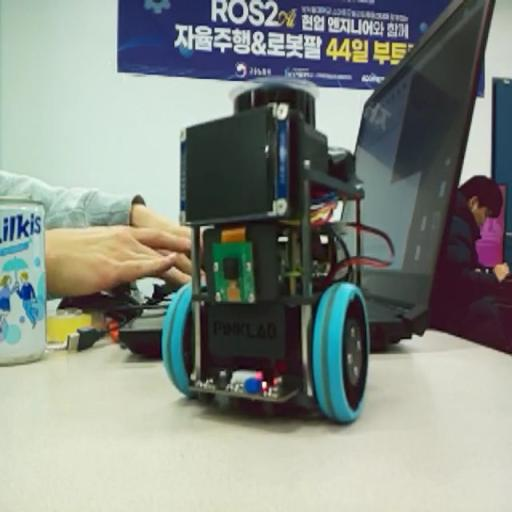pinky_63: (171, 75, 380, 436)
